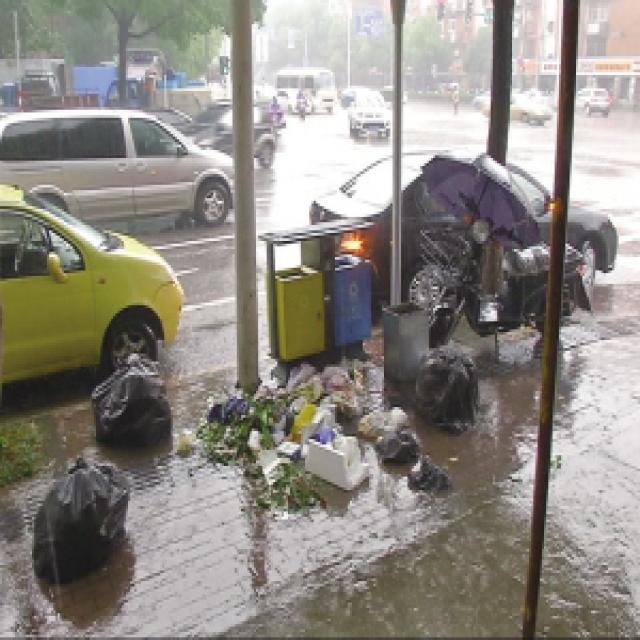garbage: (198, 346, 472, 506), (30, 351, 166, 578)
garbage_bin: (258, 214, 371, 359)
